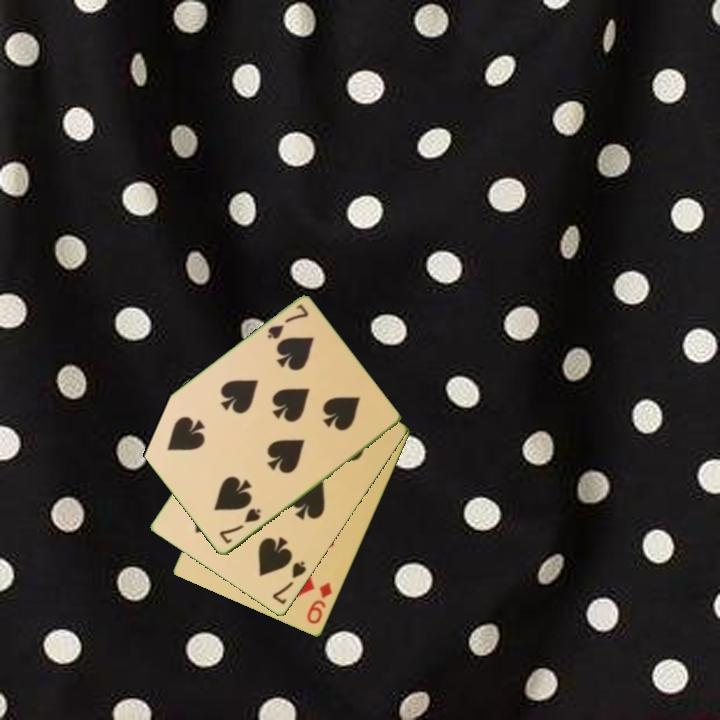7s: (263, 301, 311, 343), (269, 558, 309, 608), (216, 505, 263, 547)
9d: (303, 579, 335, 627)
